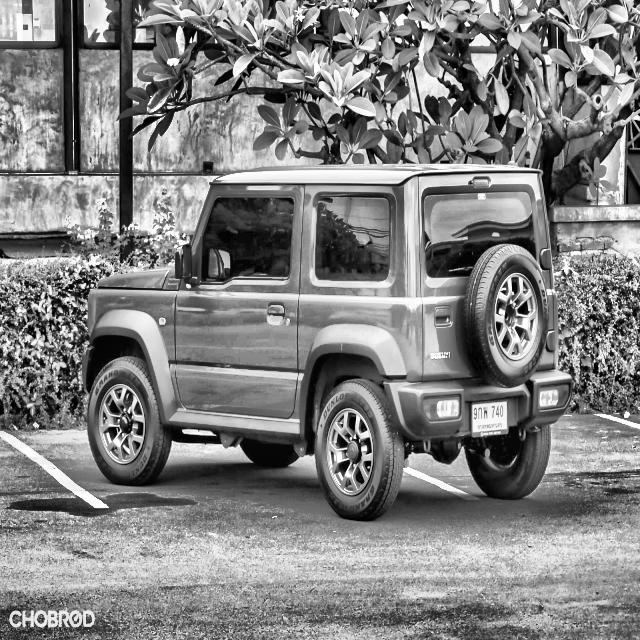license-plate: (470, 401, 509, 440)
